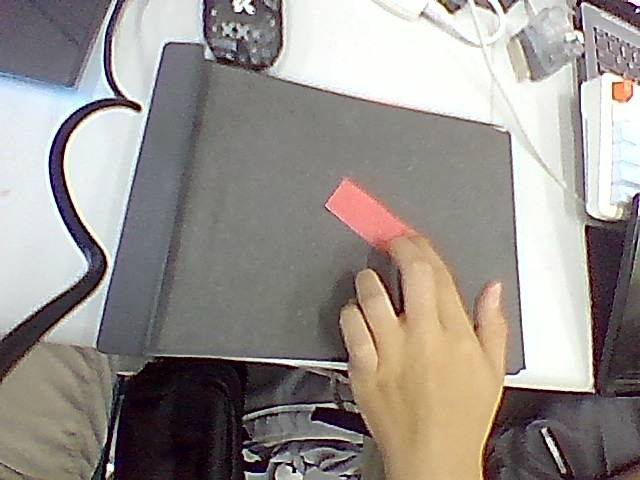card: (325, 178, 411, 249)
